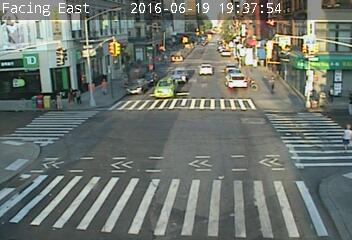neg: (154, 42, 171, 65), (120, 56, 136, 78), (243, 32, 258, 52), (229, 34, 244, 53), (172, 33, 184, 49)
pos: (337, 123, 351, 157), (264, 76, 280, 96), (324, 81, 339, 101), (61, 84, 75, 102), (97, 76, 111, 94), (342, 93, 351, 117), (73, 88, 85, 105)
